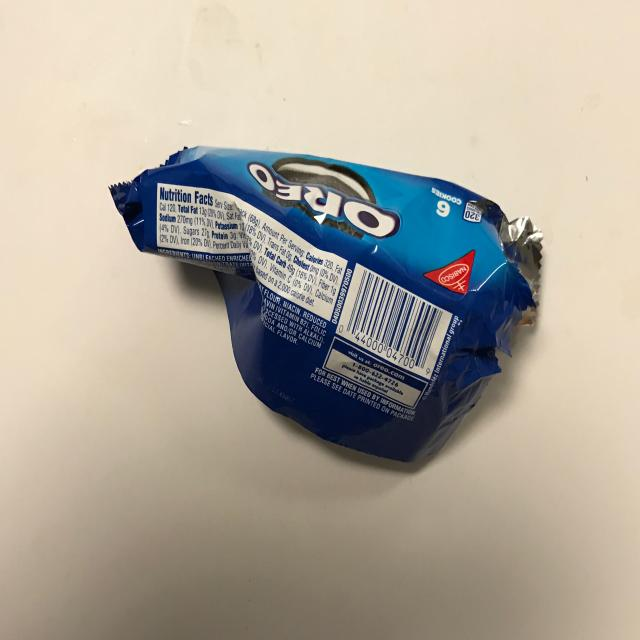Plastic: (87, 122, 554, 516)
